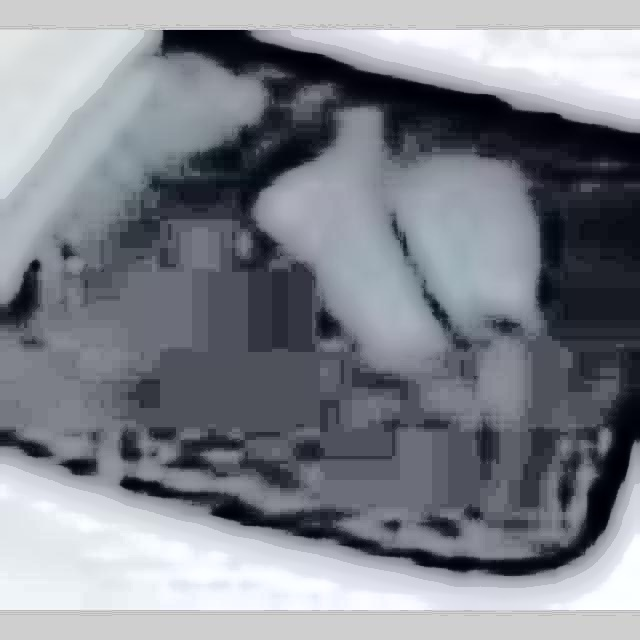pakai: (260, 90, 540, 430)
